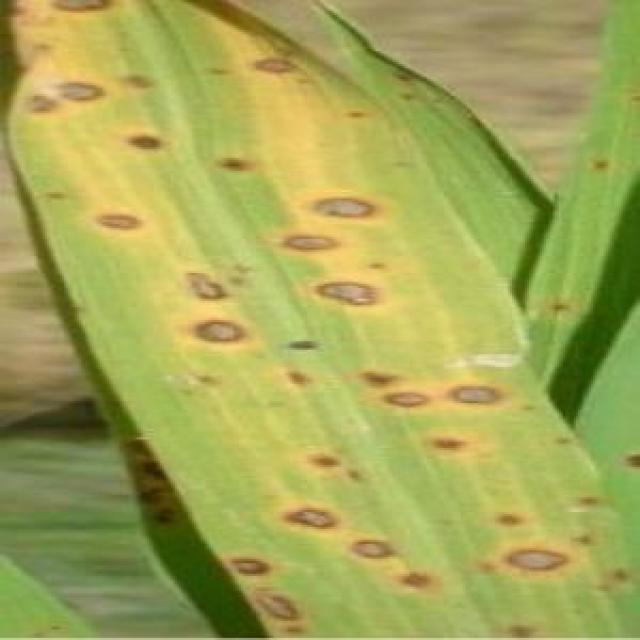brownspots: (128, 442, 182, 520), (298, 188, 396, 224), (179, 260, 248, 310), (30, 73, 99, 114), (566, 492, 616, 548), (303, 450, 373, 487), (254, 580, 312, 623), (380, 56, 431, 104), (322, 268, 376, 312), (270, 224, 344, 256), (282, 493, 342, 527), (451, 378, 504, 416), (240, 40, 294, 77), (500, 542, 568, 570), (586, 563, 640, 595), (100, 201, 143, 241), (211, 143, 258, 179), (343, 534, 397, 564), (194, 309, 241, 342), (226, 550, 282, 576), (330, 102, 384, 126), (491, 499, 532, 527), (128, 125, 169, 152), (113, 70, 162, 92), (426, 432, 474, 454), (356, 370, 403, 392), (550, 290, 576, 329), (392, 565, 430, 591), (580, 150, 614, 174), (384, 390, 427, 406), (46, 2, 118, 11), (284, 337, 320, 354)
